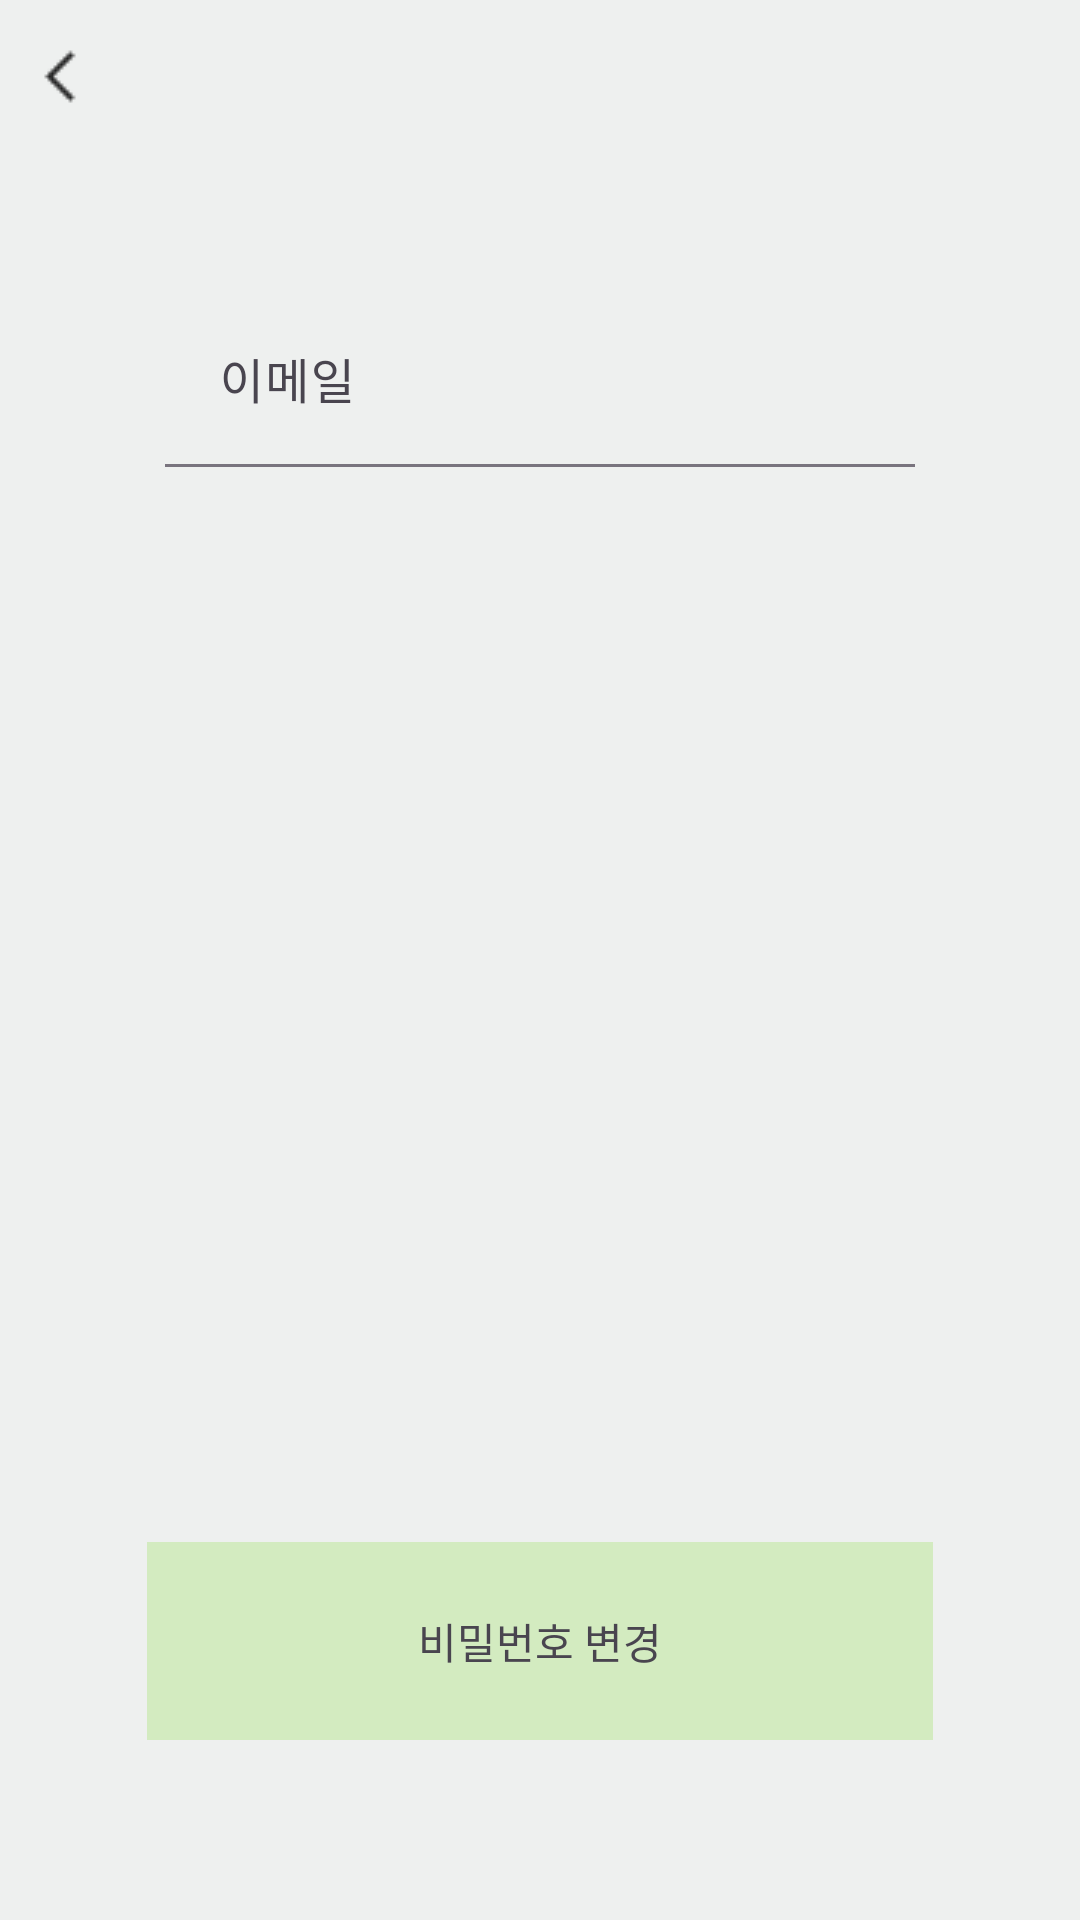

Locate icon controls on the screen. Image size 1080 x 1920, boxes as (x1=x1, y1=y1, x2=x2, y2=y2).
back arrow: (x1=44, y1=50, x2=76, y2=103)
